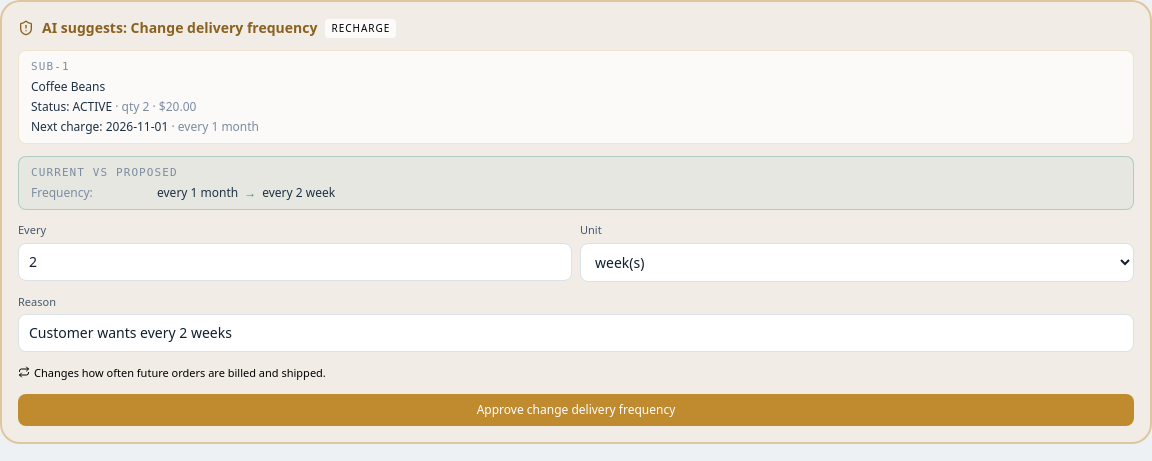
Scenario: SubscriptionApprovalPanel › submits the edited frequency
The image size is (1152, 461).
Replace the text in the number field showing "2" with "3" at (295, 262), box [18,242,572,280]
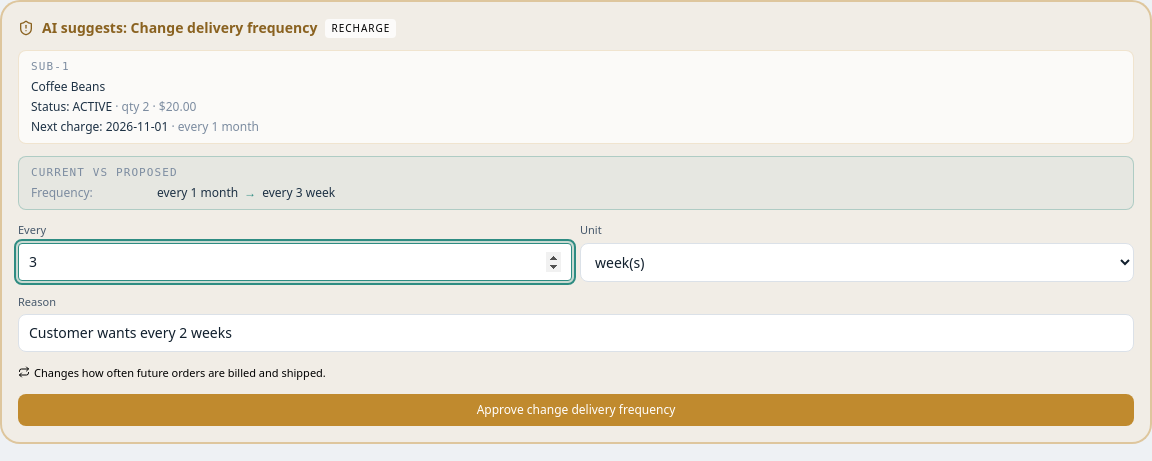
Click the button "Approve change delivery frequency" at (576, 410), box [18,394,1134,426]
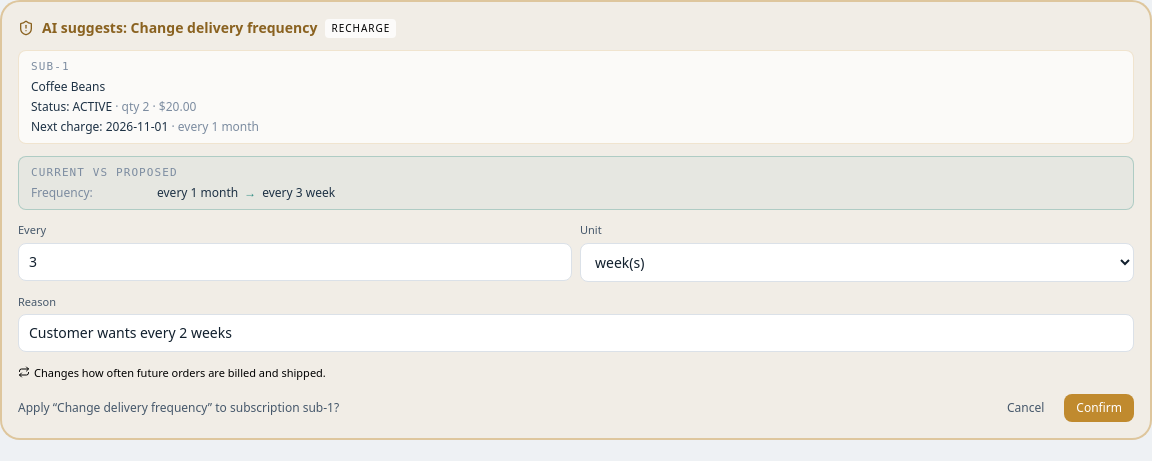
Click the button "Confirm" at (1099, 408), box [1064,394,1134,422]
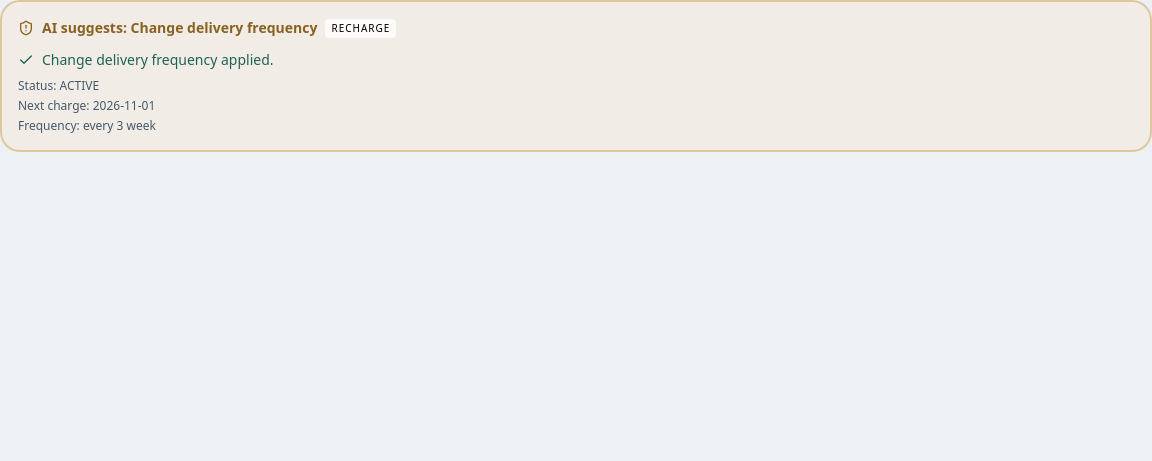
Expected: the text "Change delivery frequency applied." is shown, [18,50,274,69]
